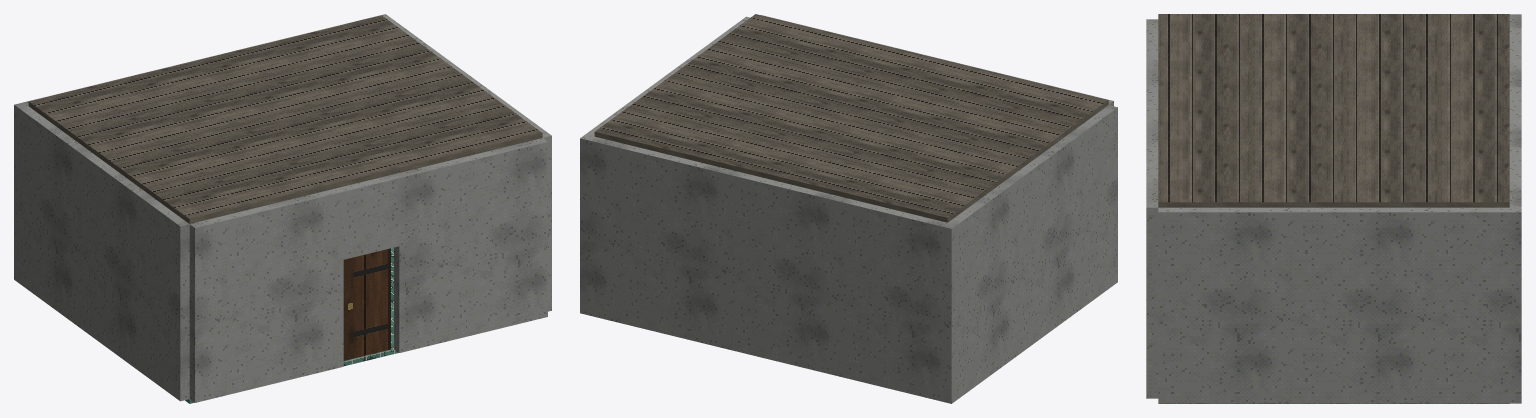
The model's file is perdidos_dentro.obj.
3 views of the same model, side by side, from view 1: azimuth 30°, elevation 25°; view 2: azimuth 150°, elevation 25°; view 3: azimuth 270°, elevation 25° (orthographic). The views are drawn at different scales.
Parts seen in each view (by area): view 1: perdidos_dentro; view 2: perdidos_dentro; view 3: perdidos_dentro.
Part boxes in pixels (<box>): perdidos_dentro: <box>14,14,551,403</box>; perdidos_dentro: <box>580,14,1117,403</box>; perdidos_dentro: <box>1146,14,1521,403</box>.
Size of the model in its own units: 8 by 3.8 by 6.4.
6 materials, 6 textured.
